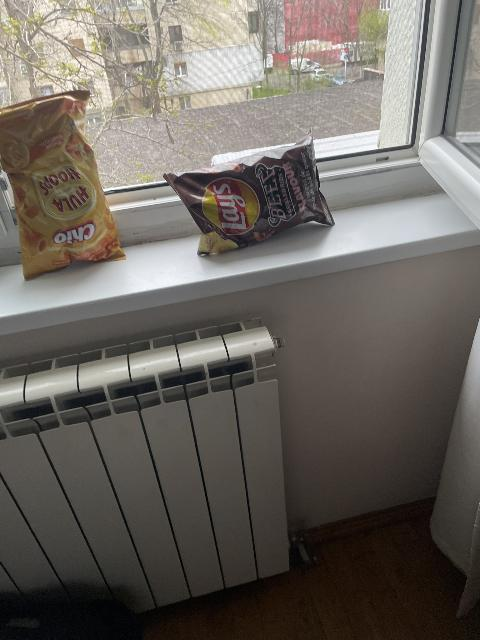Chio Hula Hoops Cheese 70g: (3, 91, 129, 281)
Lays Beef Grilled Ribs 125g: (163, 129, 335, 255)
